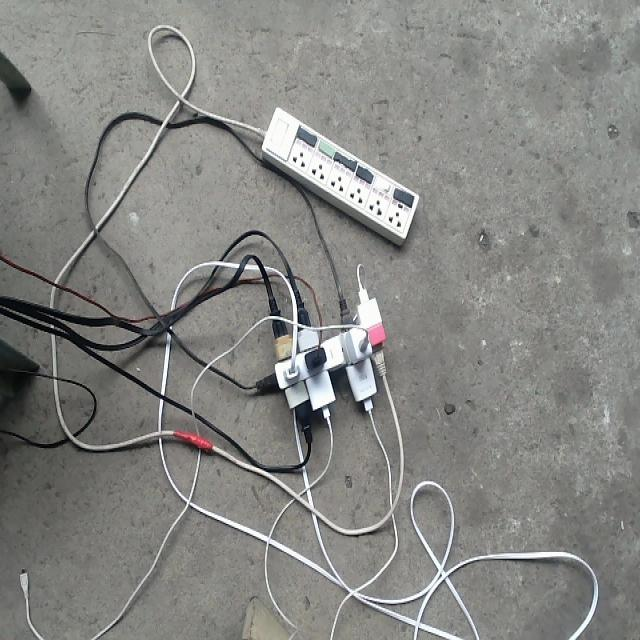-: (254, 288, 387, 437)
